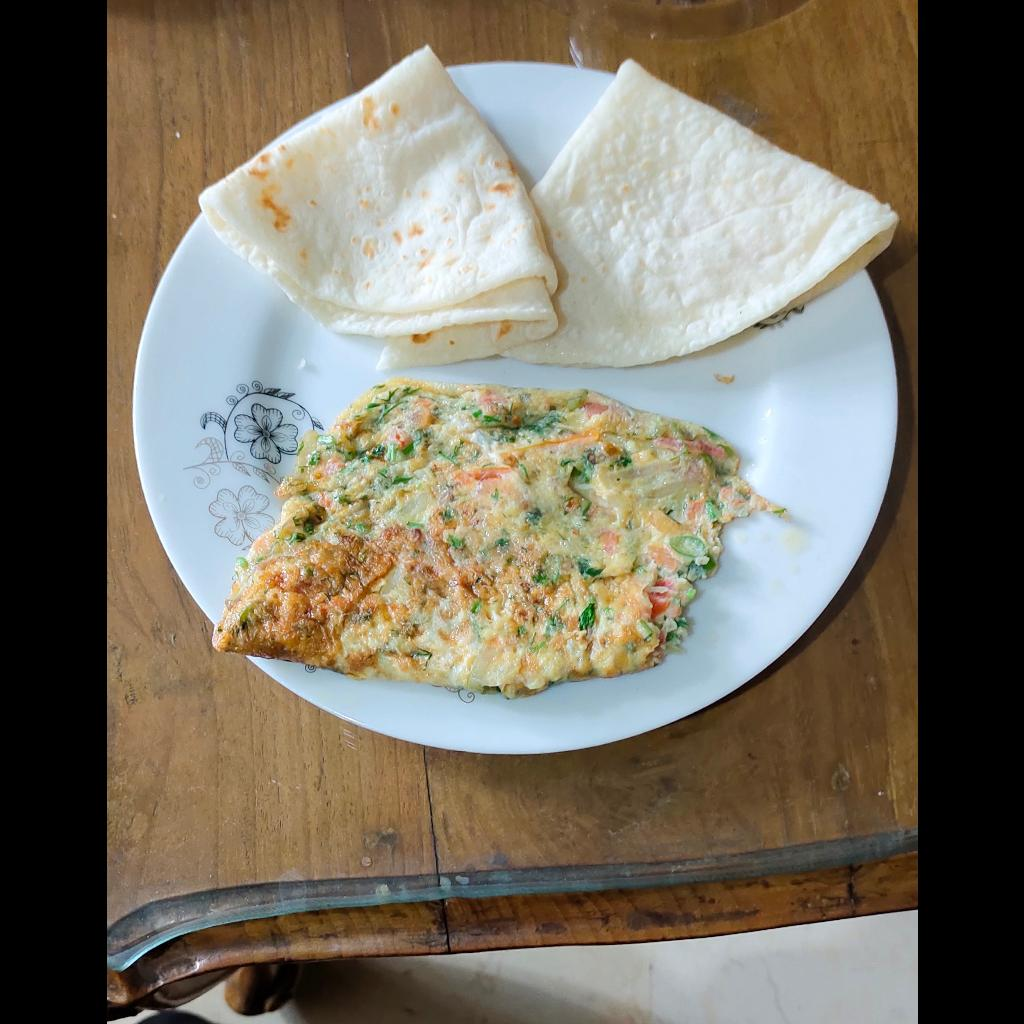egg-poached: (199, 378, 788, 689)
ruti: (195, 44, 894, 378)
